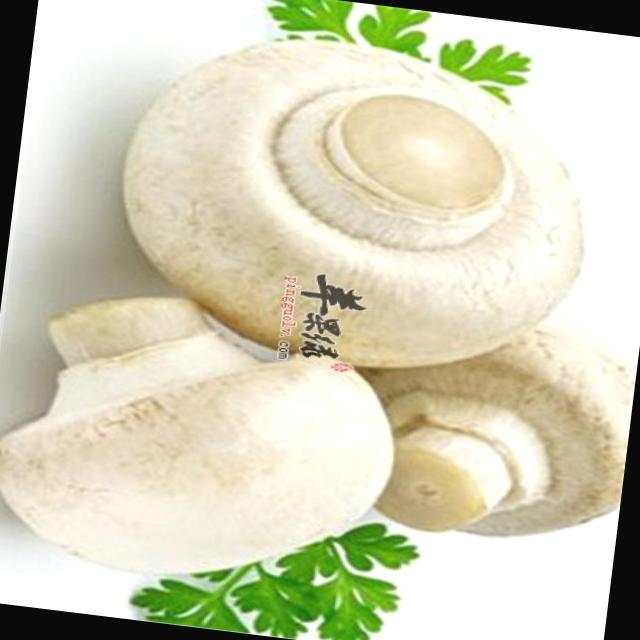Agaricus bisporus: (91, 22, 598, 390), (0, 281, 405, 603), (361, 297, 640, 553)
